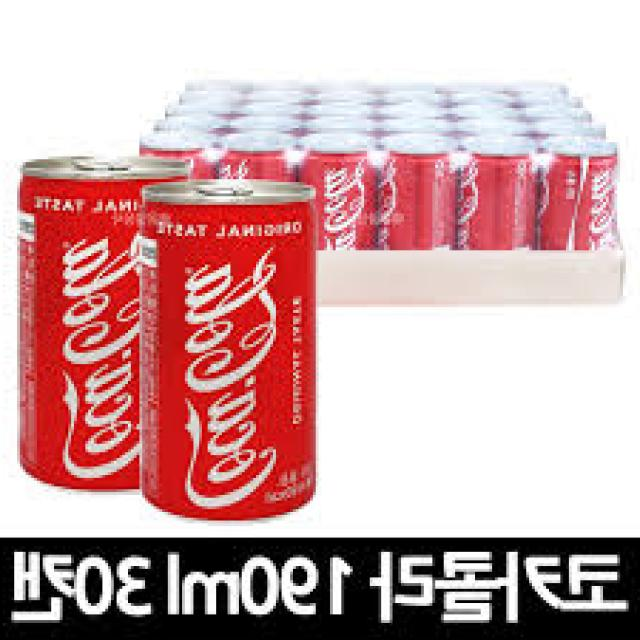Coca-Cola: (130, 179, 328, 521), (10, 148, 204, 497), (528, 131, 625, 296), (454, 129, 535, 308), (372, 129, 452, 308), (300, 132, 370, 299)
